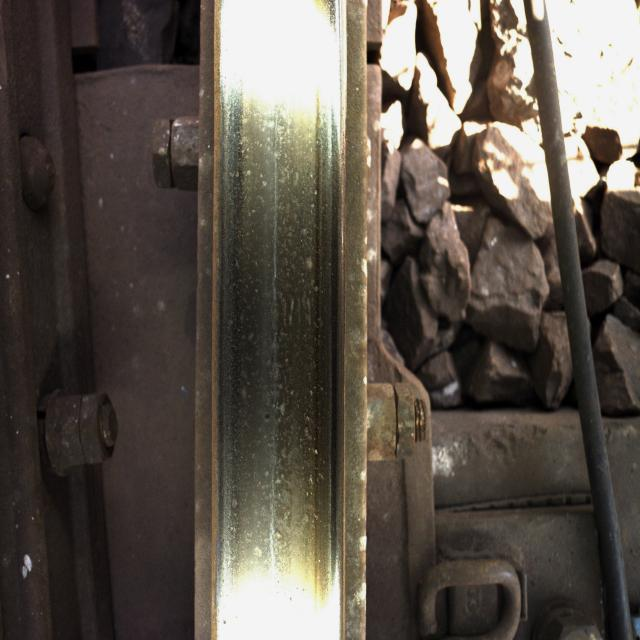break: (222, 2, 336, 608)
